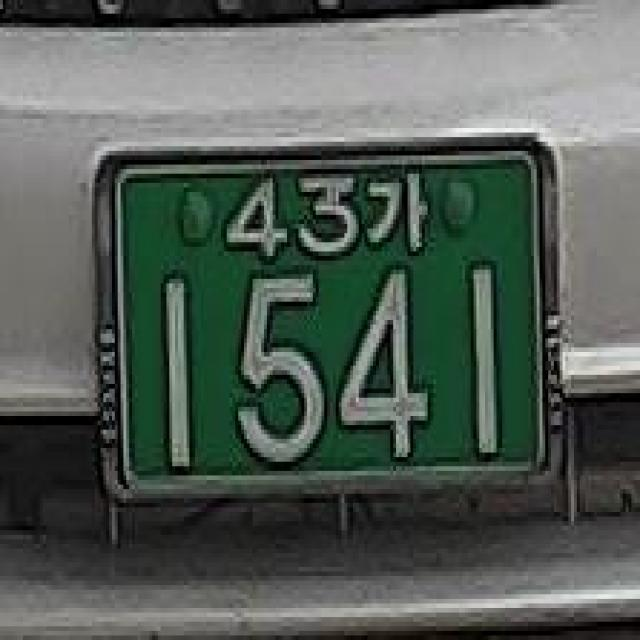illegal_plate: (84, 115, 581, 562)
